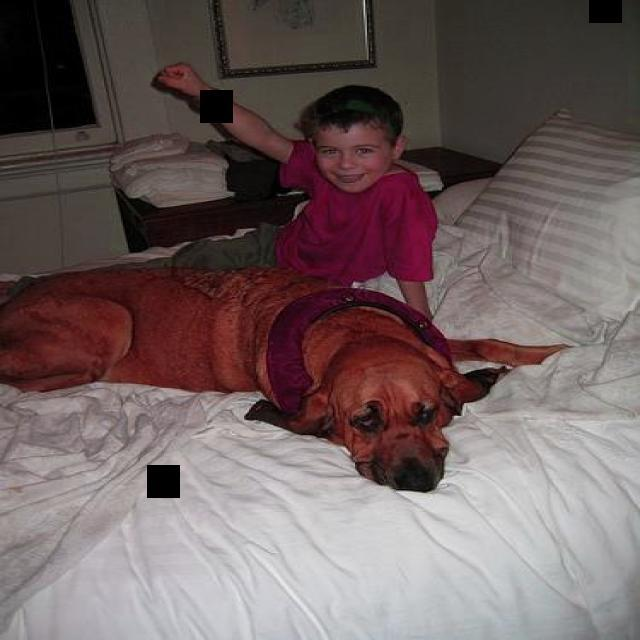adult_dog: (0, 264, 574, 494)
non-dog: (149, 58, 440, 329)
